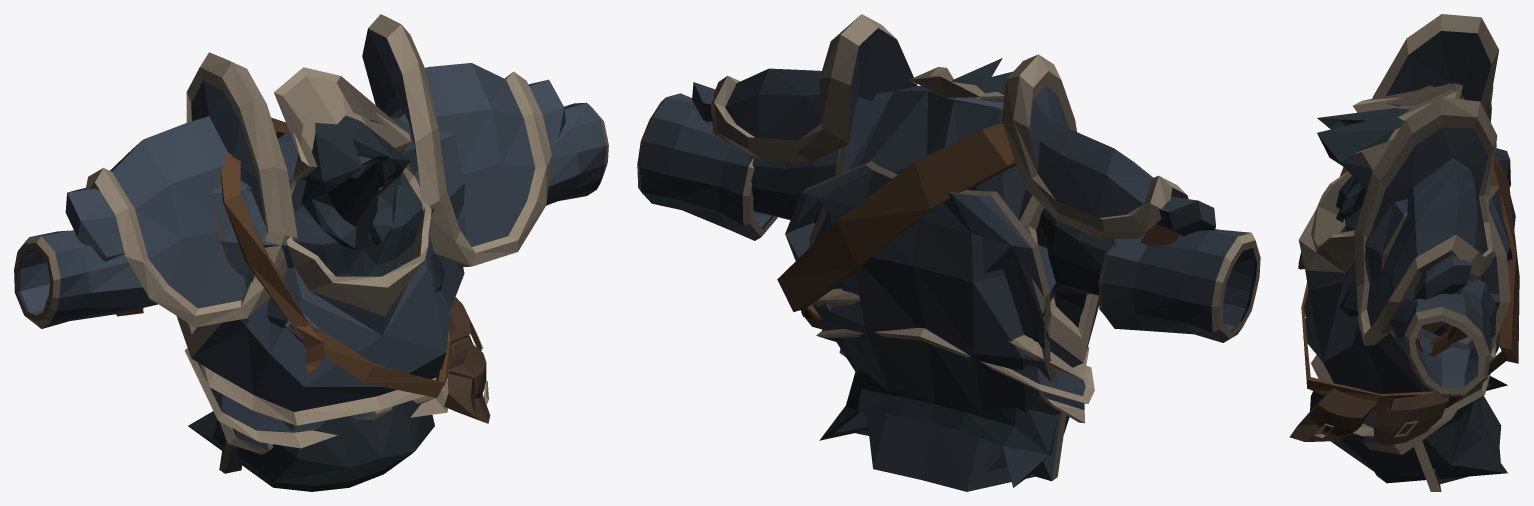
Rendered from dragonslayer_body.glb.
The picture shows the model from 3 angles, left to right: view 1: azimuth 30°, elevation 25°; view 2: azimuth 150°, elevation 25°; view 3: azimuth 270°, elevation 25°; orthographic projection. The views are drawn at different scales.
Parts seen in each view (by area): view 1: dragonslayer_body; view 2: dragonslayer_body; view 3: dragonslayer_body.
Boxes of the visible parts, x1,y1,x2,y2 form: dragonslayer_body: (14, 14, 608, 491); dragonslayer_body: (637, 14, 1260, 491); dragonslayer_body: (1289, 14, 1519, 491).
Bounding box in the file's own units: 1 × 0.7229 × 0.369.
